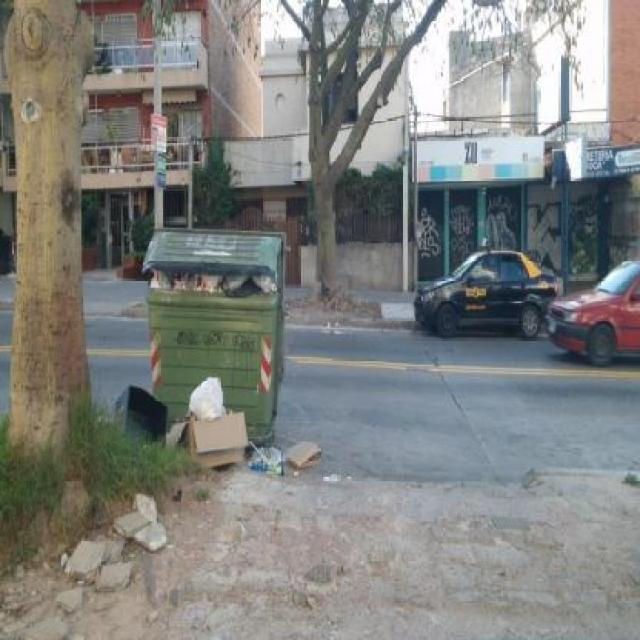garbage: (172, 365, 247, 468), (276, 434, 330, 464)
